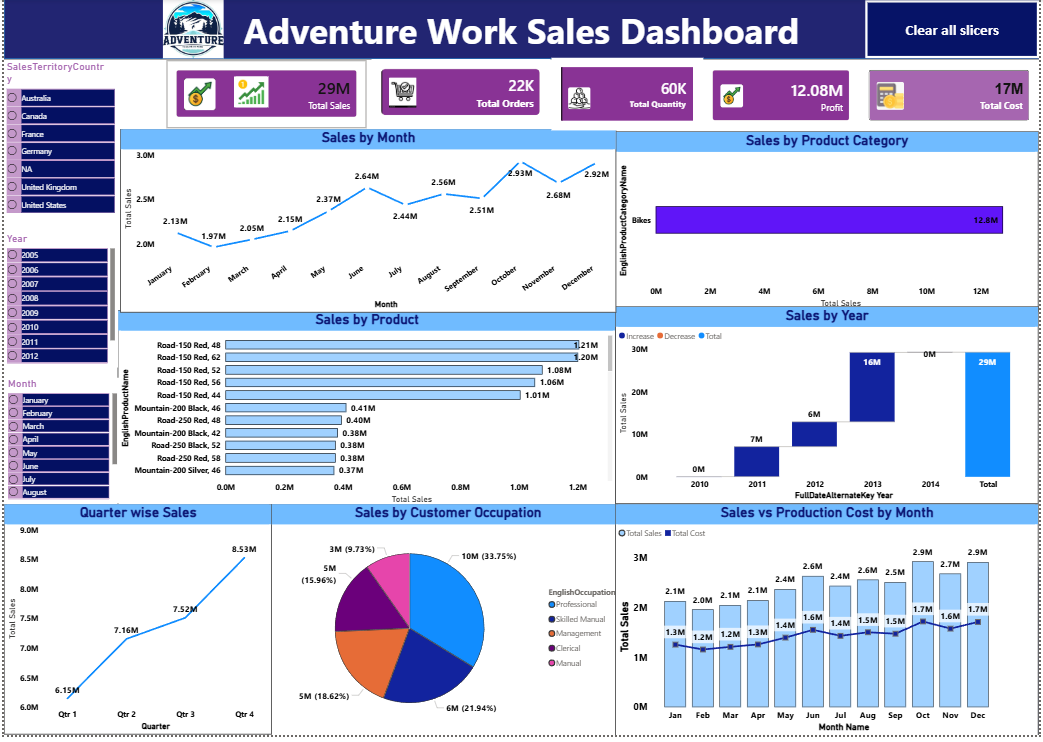

What the dashboard file says about the page in this screenshot:
{"tool":"powerbi","page":{"name":"Dashboard","canvas":[1800,1280],"ordinal":8},"visuals":[{"type":"shape","box":[0,0,1800,105],"z":0},{"type":"cardVisual","fields":{"Data":["Dax Measure.Total Sales"]},"box":[281.7,106.7,348.3,116.7],"z":1000},{"type":"lineChart","title":"Sales by Month","fields":{"Category":["DimDate.FullDateAlternateKey.Variation.Date Hierarchy.Month"],"Y":["Dax Measure.Total Sales"]},"box":[1175,990,625,290],"z":2000},{"type":"clusteredBarChart","title":" Sales by Product Category","fields":{"Category":["DimProdCategory.EnglishProductCategoryName"],"Y":["Dax Measure.Total Sales"]},"box":[1063.8,229.5,735.7,313.1],"z":3000},{"type":"clusteredBarChart","title":"Sales by Product ","fields":{"Category":["DimProduct.EnglishProductName"],"Y":["Dax Measure.Total Sales"]},"box":[197.3,540.5,866.5,343.2],"z":4000},{"type":"waterfallChart","title":" Sales by Year","fields":{"Category":["DimDate.FullDateAlternateKey.Variation.Date Hierarchy.Year"],"Y":["Dax Measure.Total Sales"]},"box":[1063.8,534.1,735.7,343.2],"z":5000},{"type":"pieChart","title":"Sales by Customer Occupation","fields":{"Category":["Dimcustomer.EnglishOccupation"],"Y":["Dax Measure.Total Sales"]},"box":[459,877.2,626.3,403.2],"z":6000},{"type":"lineClusteredColumnComboChart","title":"Sales vs Production Cost by Month ","fields":{"Category":["Appended Fact Table.Month Name"],"Y":["Dax Measure.Total Sales"],"Y2":["Dax Measure.Total Cost"]},"box":[1063.8,877.2,735.7,403.2],"z":7000},{"type":"image","box":[398.9,135.1,60.1,53.6],"z":8000},{"type":"listSlicer","fields":{"Values":["DimDate.FullDateAlternateKey.Variation.Date Hierarchy.Year"]},"box":[0,406,198,234],"z":9000},{"type":"cardVisual","fields":{"Data":["Dax Measure.Total Orders"]},"box":[639.1,105.1,311,115.8],"z":10000},{"type":"lineChart","title":" Sales by Month","fields":{"Category":["DimDate.FullDateAlternateKey.Variation.Date Hierarchy.Month"],"Y":["Dax Measure.Total Sales"]},"box":[201.6,225.2,862.2,319.6],"z":11000},{"type":"listSlicer","fields":{"Values":["DimDate.FullDateAlternateKey.Variation.Date Hierarchy.Month"]},"box":[2.1,658.4,199.5,218.8],"z":12000},{"type":"actionButton","box":[1497.1,2.1,302.4,100.8],"z":13000},{"type":"image","box":[233.8,0,188.7,102.9],"z":14000},{"type":"lineChart","title":"Quarter wise Sales","fields":{"Category":["DimDate.FullDateAlternateKey.Variation.Date Hierarchy.Quarter"],"Y":["Dax Measure.Total Sales"]},"box":[0,877.2,465.4,401.1],"z":15000},{"type":"cardVisual","fields":{"Data":["Dax Measure.Total Quantity"]},"box":[952.3,102.9,263.8,126.5],"z":17000},{"type":"cardVisual","fields":{"Data":["Dax Measure.Profit"]},"box":[1216.1,107.2,272.4,122.3],"z":18000},{"type":"cardVisual","fields":{"Data":["Dax Measure.Total Cost"]},"box":[1486.3,107.2,313.1,122.3],"z":19000},{"type":"listSlicer","fields":{"Values":["DimSalesTerritory.SalesTerritoryCountry"]},"box":[0,106,198,304],"z":20000}]}

Visuals, with their boxes in screenshot pixels (x1, y1, x2, y2), scaled from the page's 1800x1280 canvas onto the 1043x742 screenshot:
shape: [x1=0, y1=0, x2=1042, y2=61]
cardVisual - Dax Measure.Total Sales: [x1=163, y1=62, x2=365, y2=130]
"Sales by Month" lineChart: [x1=681, y1=574, x2=1042, y2=741]
" Sales by Product Category" clusteredBarChart: [x1=616, y1=133, x2=1042, y2=315]
"Sales by Product " clusteredBarChart: [x1=114, y1=313, x2=616, y2=512]
" Sales by Year" waterfallChart: [x1=616, y1=310, x2=1042, y2=509]
"Sales by Customer Occupation" pieChart: [x1=266, y1=509, x2=629, y2=741]
"Sales vs Production Cost by Month " lineClusteredColumnComboChart: [x1=616, y1=509, x2=1042, y2=741]
image: [x1=231, y1=78, x2=266, y2=109]
listSlicer - DimDate.FullDateAlternateKey.Variation.Date Hierarchy.Year: [x1=0, y1=235, x2=115, y2=371]
cardVisual - Dax Measure.Total Orders: [x1=370, y1=61, x2=551, y2=128]
" Sales by Month" lineChart: [x1=117, y1=131, x2=616, y2=316]
listSlicer - DimDate.FullDateAlternateKey.Variation.Date Hierarchy.Month: [x1=1, y1=382, x2=117, y2=509]
actionButton: [x1=867, y1=1, x2=1042, y2=60]
image: [x1=135, y1=0, x2=245, y2=60]
"Quarter wise Sales" lineChart: [x1=0, y1=509, x2=270, y2=741]
cardVisual - Dax Measure.Total Quantity: [x1=552, y1=60, x2=705, y2=133]
cardVisual - Dax Measure.Profit: [x1=705, y1=62, x2=863, y2=133]
cardVisual - Dax Measure.Total Cost: [x1=861, y1=62, x2=1042, y2=133]
listSlicer - DimSalesTerritory.SalesTerritoryCountry: [x1=0, y1=61, x2=115, y2=238]
